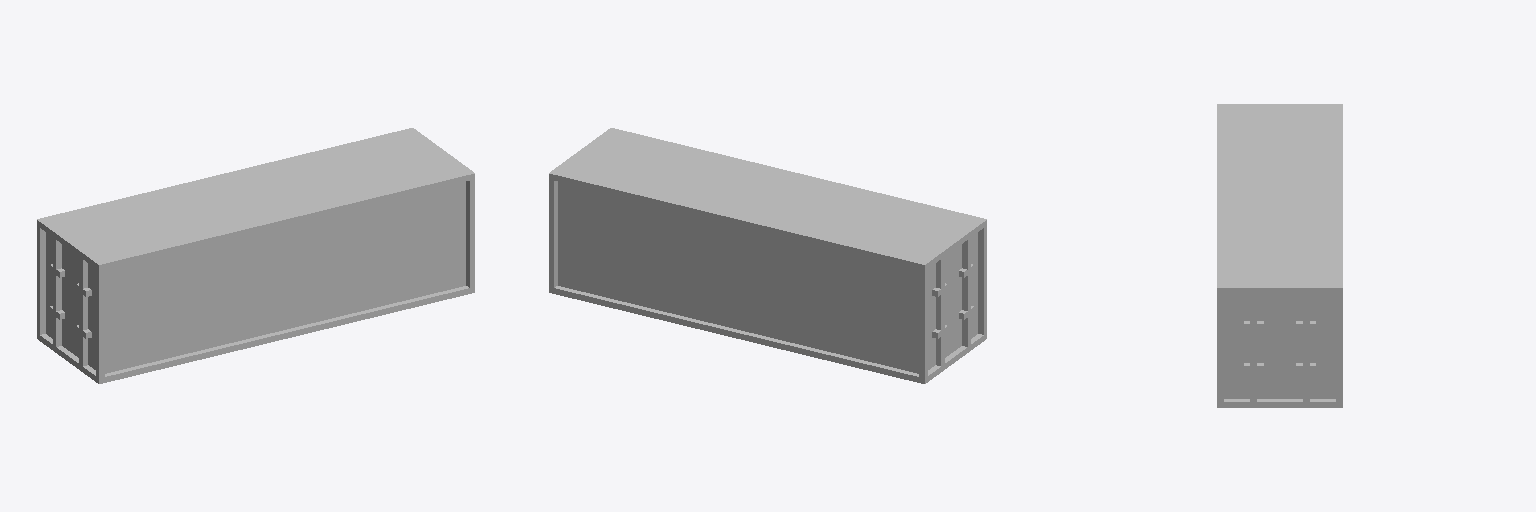
File: æargo container-2.obj
3 views of the same model, side by side, from view 1: azimuth 30°, elevation 25°; view 2: azimuth 150°, elevation 25°; view 3: azimuth 270°, elevation 25° (orthographic).
Parts seen in each view (by area): view 1: object 1; view 2: object 1; view 3: object 1.
Boxes of the visible parts, <box> form: object 1: <box>37,128,474,383</box>; object 1: <box>549,128,986,383</box>; object 1: <box>1217,104,1342,407</box>.
Bounding box in the file's own units: 6.6 × 2 × 1.9.